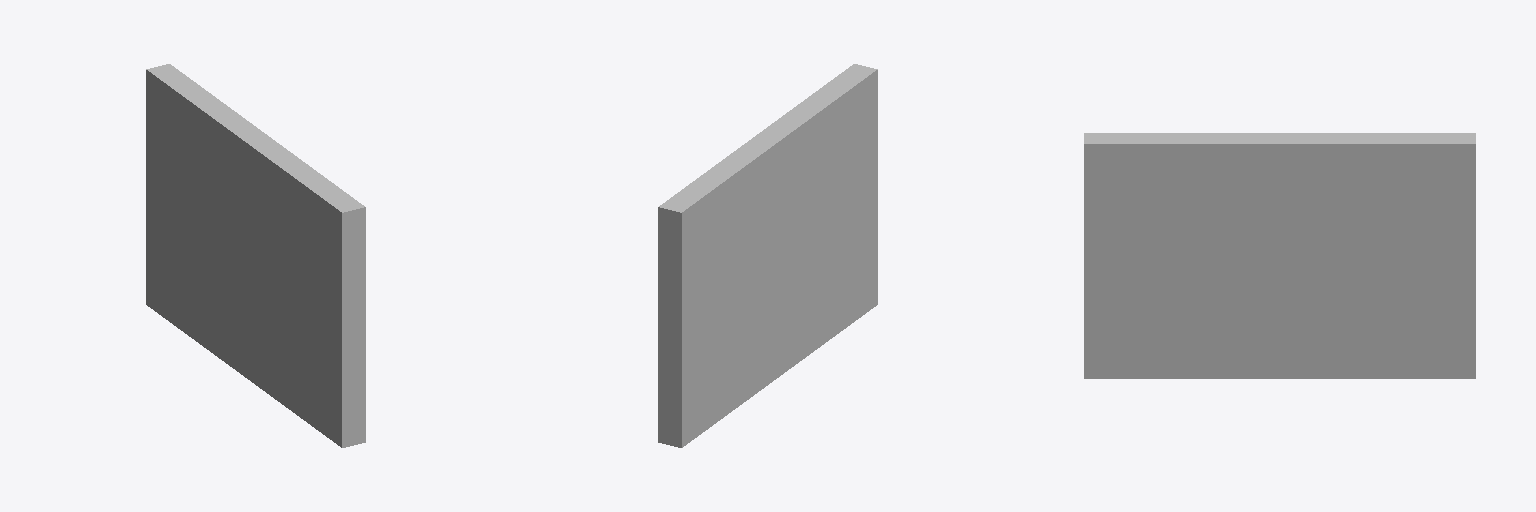
The model's file is SeparatorWalls1.obj.
3 views of the same model, side by side, from view 1: azimuth 30°, elevation 25°; view 2: azimuth 150°, elevation 25°; view 3: azimuth 270°, elevation 25° (orthographic).
Parts seen in each view (by area): view 1: SeperatorWall1, SeperatorWallArc_-col, SeperatorWallMSH, SeperatorWall_-col; view 2: SeperatorWall1, SeperatorWallArc_-col, SeperatorWallMSH, SeperatorWall_-col; view 3: SeperatorWallMSH, SeperatorWall_-col, SeperatorWallArc_-col.
Boxes of the visible parts, box(x1,y1,x2,y2) form: SeperatorWall1: box(146, 70, 341, 447); SeperatorWallArc_-col: box(146, 64, 365, 447); SeperatorWallMSH: box(219, 215, 269, 394); SeperatorWall_-col: box(151, 66, 365, 447); SeperatorWall1: box(682, 70, 877, 447); SeperatorWallArc_-col: box(658, 64, 877, 447); SeperatorWallMSH: box(754, 215, 804, 394); SeperatorWall_-col: box(658, 64, 875, 447); SeperatorWallMSH: box(1084, 144, 1475, 378); SeperatorWall_-col: box(1084, 133, 1475, 378); SeperatorWallArc_-col: box(1084, 133, 1475, 143).
Size of the model in its own units: 0.3584 by 3.43 by 5.18.